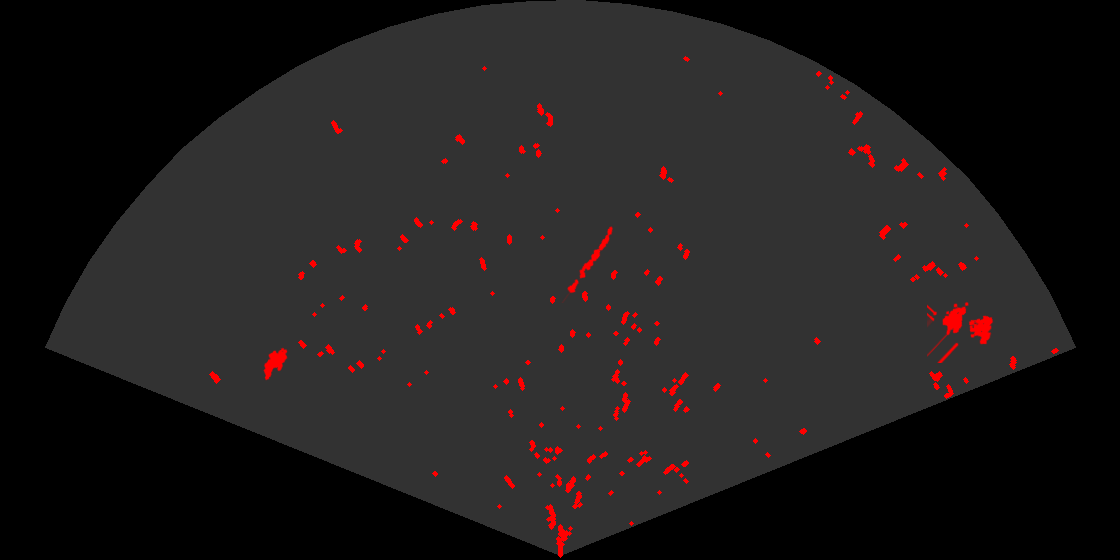AUV: (262, 346, 289, 382)
cage: (927, 300, 995, 363)
chain: (560, 225, 615, 303)
